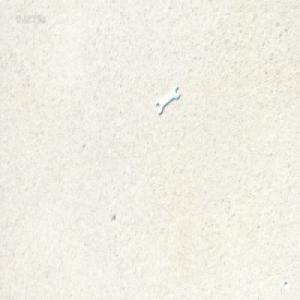Wrench: (155, 84, 180, 114)
